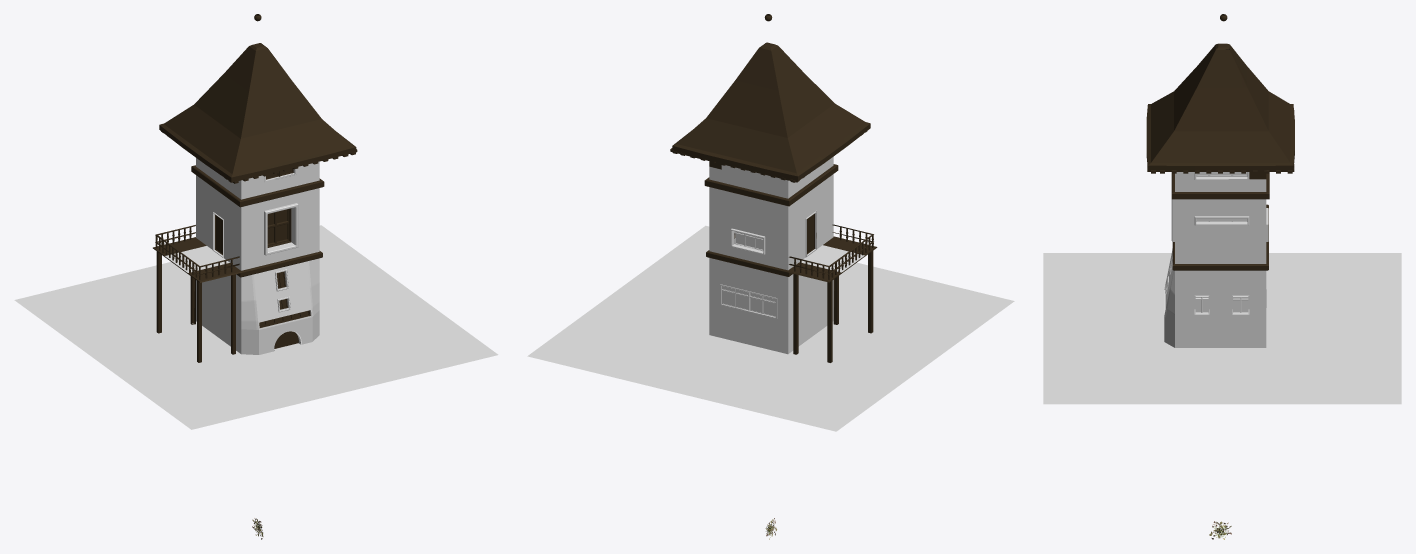
The model's file is castillo.glb.
3 renders of one model, left to right at view 1: azimuth 30°, elevation 25°; view 2: azimuth 150°, elevation 25°; view 3: azimuth 270°, elevation 25°, orthographic.
Visible parts, largest first — view 1: Plane, Cube, Cube.011, Cube.003, Cylinder.004; view 2: Plane, Cube, Cube.011, Cube.002, Cylinder.004; view 3: Plane, Cube, Cube.001.
Boxes of the visible parts, bbox=[...] form: Plane: bbox=[14, 225, 498, 429]; Cube: bbox=[153, 14, 356, 354]; Cube.011: bbox=[156, 251, 235, 362]; Cube.003: bbox=[267, 208, 291, 247]; Cylinder.004: bbox=[155, 227, 232, 279]; Plane: bbox=[527, 225, 1014, 431]; Cube: bbox=[672, 14, 877, 354]; Cube.011: bbox=[793, 251, 873, 362]; Cube.002: bbox=[722, 286, 775, 316]; Cylinder.004: bbox=[794, 227, 873, 279]; Plane: bbox=[1043, 253, 1401, 404]; Cube: bbox=[1146, 14, 1294, 347]; Cube.001: bbox=[1195, 297, 1248, 312].
Size of the model in its own units: 15.18 by 24.6 by 15.18.
